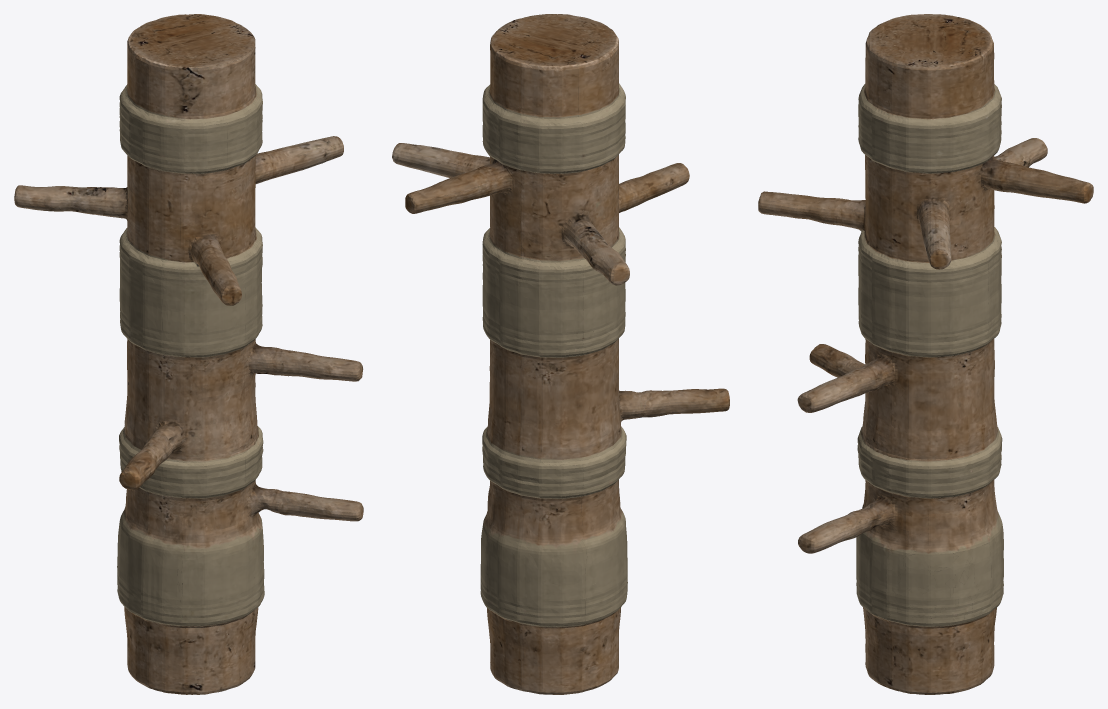
3 renders of one model, left to right at view 1: azimuth 30°, elevation 25°; view 2: azimuth 150°, elevation 25°; view 3: azimuth 270°, elevation 25°, orthographic.
Visible parts, largest first — view 1: Node; view 2: Node; view 3: Node.
Boxes of the visible parts, box(x1,y1,x2,y2) form: Node: box(14, 14, 363, 694); Node: box(392, 14, 729, 694); Node: box(758, 14, 1093, 694).
Size of the model in its own units: 0.9075 by 1.95 by 0.9433.
1 material, 1 textured.
